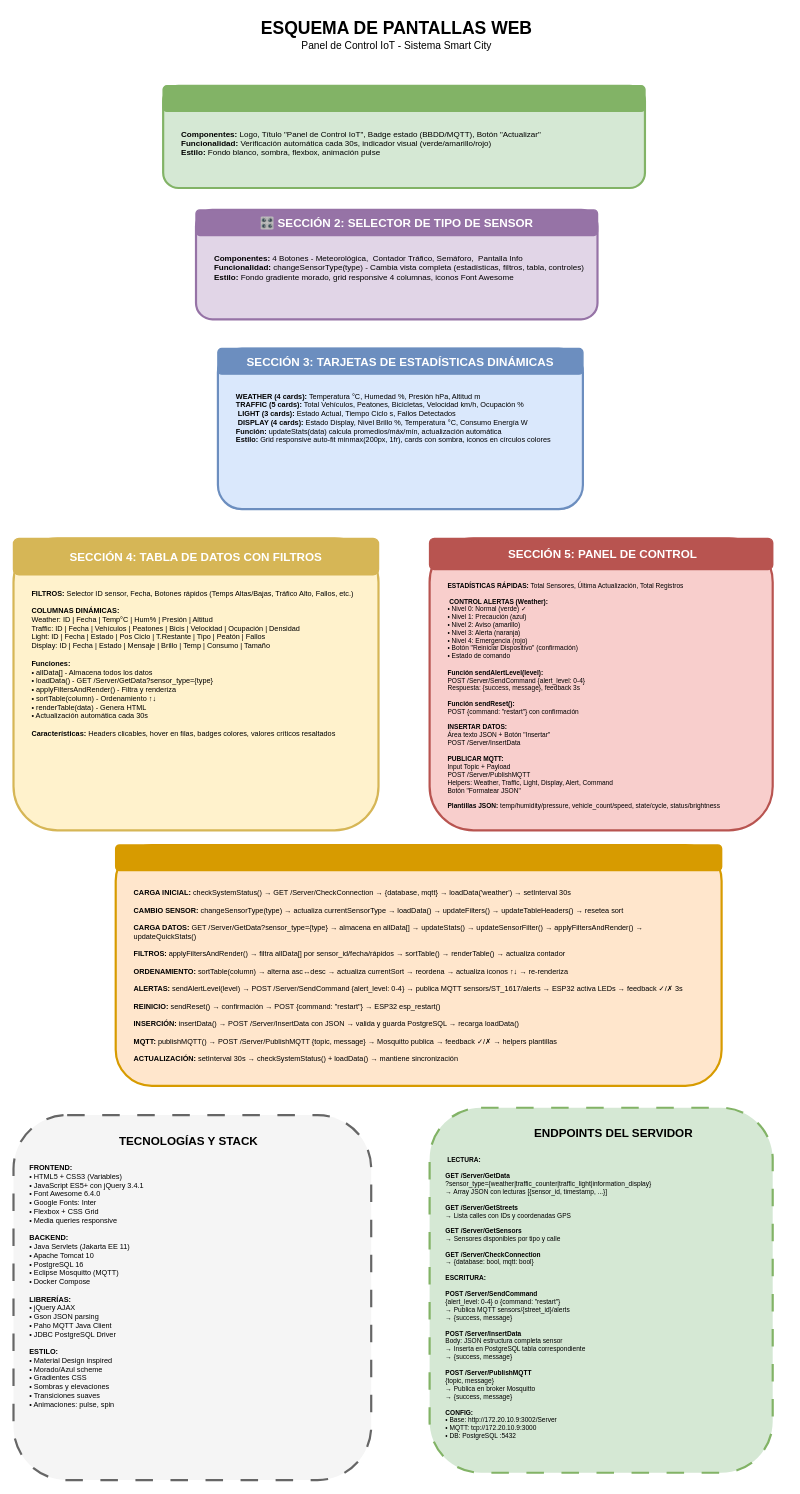
Some shapes in this 800 by 1494 pixel diagram are drawn without their labels. Each missing label, with the centre of its shape:
"FLUJO DE DATOS Y FUNCIONAMIENTO" belongs at point (418, 857).
"SECCIÓN 1: HEADER" belongs at point (403, 98).
